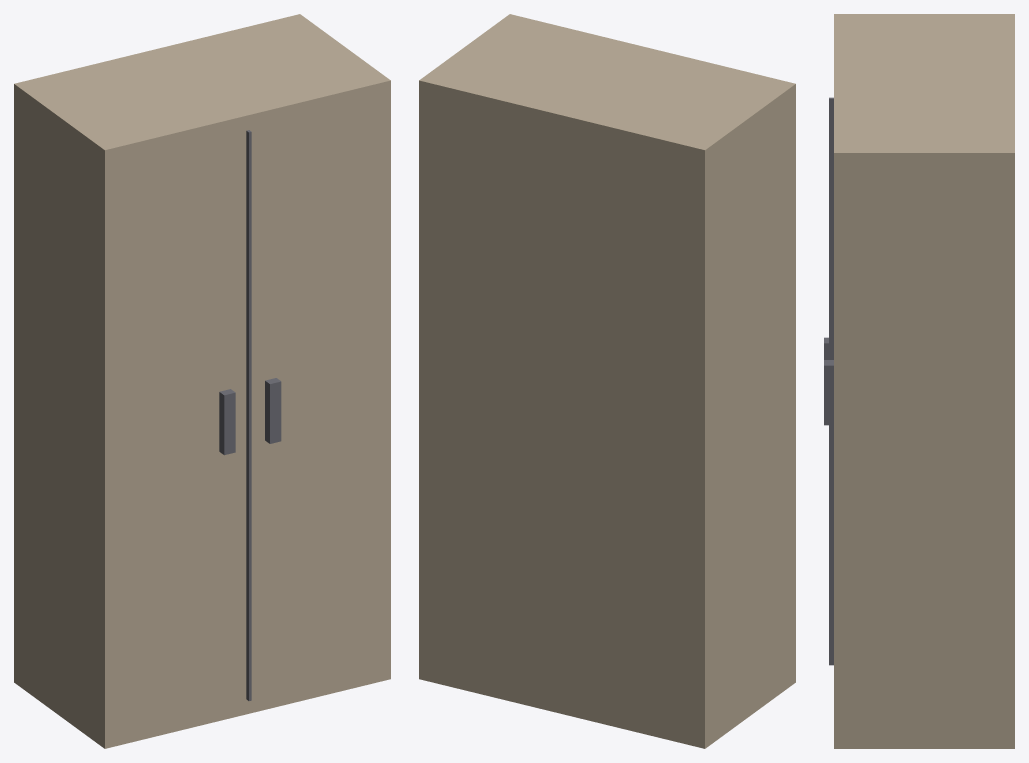
File: wardrobe.glb
3 renders of one model, left to right at view 1: azimuth 30°, elevation 25°; view 2: azimuth 150°, elevation 25°; view 3: azimuth 270°, elevation 25°, orthographic.
Visible parts, largest first — view 1: geometry_0, geometry_1, geometry_2, geometry_3; view 2: geometry_0; view 3: geometry_0, geometry_1, geometry_3.
Boxes of the visible parts, x1,y1,x2,y2 form: geometry_0: (14,14,390,748); geometry_1: (246,130,251,700); geometry_2: (219,389,235,455); geometry_3: (265,378,281,443); geometry_0: (419,14,795,748); geometry_0: (834,14,1014,748); geometry_1: (829,97,833,665); geometry_3: (824,360,833,425).
Bounding box in the file's own units: 1 × 2 × 0.58.
